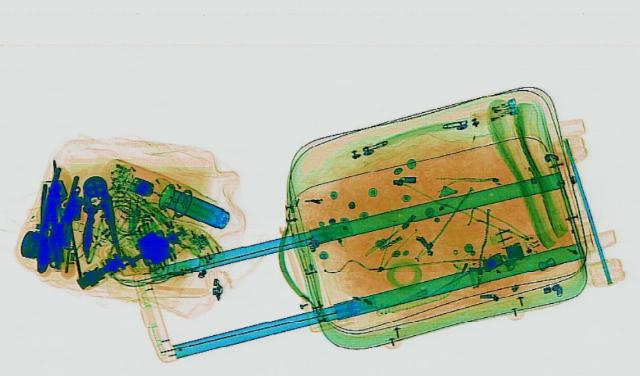Pliers: (71, 174, 121, 258), (42, 174, 78, 252)
